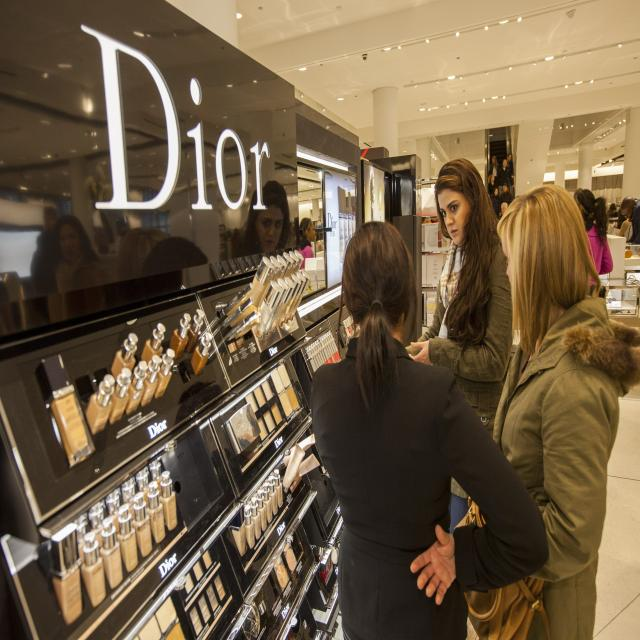body: (304, 216, 554, 640), (449, 186, 640, 640), (3, 170, 326, 323), (404, 157, 515, 536), (572, 186, 614, 300), (620, 196, 640, 244), (616, 203, 633, 242), (497, 158, 515, 192), (486, 155, 500, 189), (499, 182, 512, 218), (504, 152, 515, 193), (614, 207, 627, 229), (490, 187, 500, 214), (607, 203, 619, 223), (497, 202, 508, 220), (487, 173, 496, 194)
